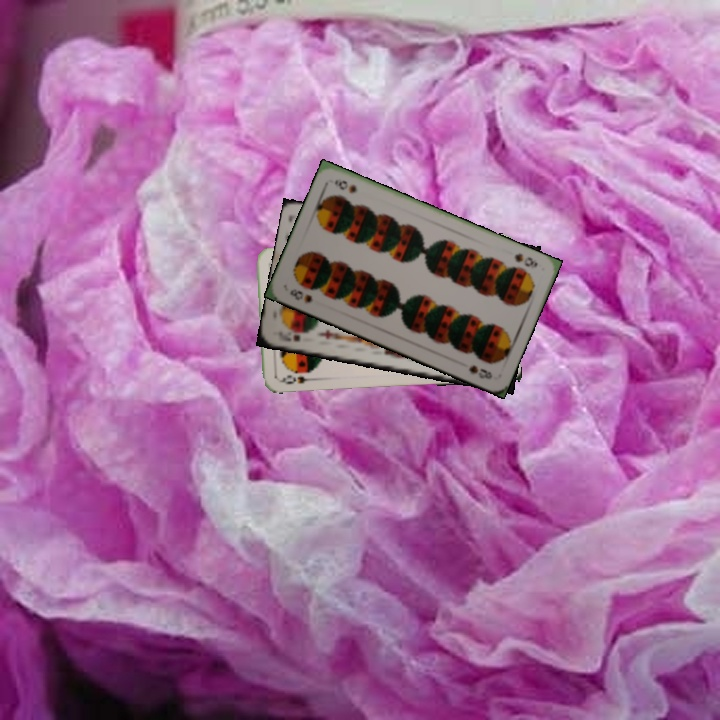S8: (510, 249, 540, 270), (286, 285, 315, 306)
SK: (274, 327, 302, 344)
SO: (276, 371, 316, 387)
